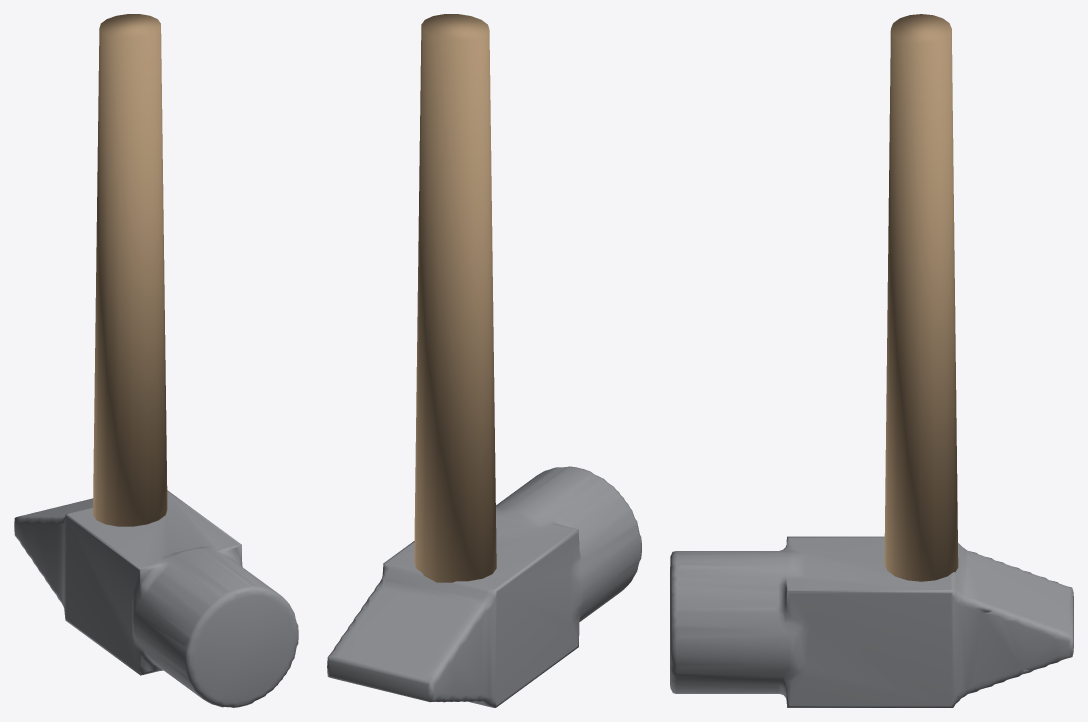
Rendered from hammer.glb.
The picture shows the model from 3 angles, left to right: view 1: azimuth 30°, elevation 25°; view 2: azimuth 150°, elevation 25°; view 3: azimuth 270°, elevation 25°; orthographic projection. The views are drawn at different scales.
Visible parts, largest first — view 1: head, handle; view 2: handle, head; view 3: head, handle.
Part boxes in pixels (x1,y1,x2,y2): head: (14, 490, 298, 707); handle: (93, 14, 167, 526); handle: (414, 14, 496, 582); head: (327, 466, 641, 707); head: (670, 536, 1073, 707); handle: (884, 14, 958, 581).
Size of the model in its own units: 0.0797 by 0.4048 by 0.225.
